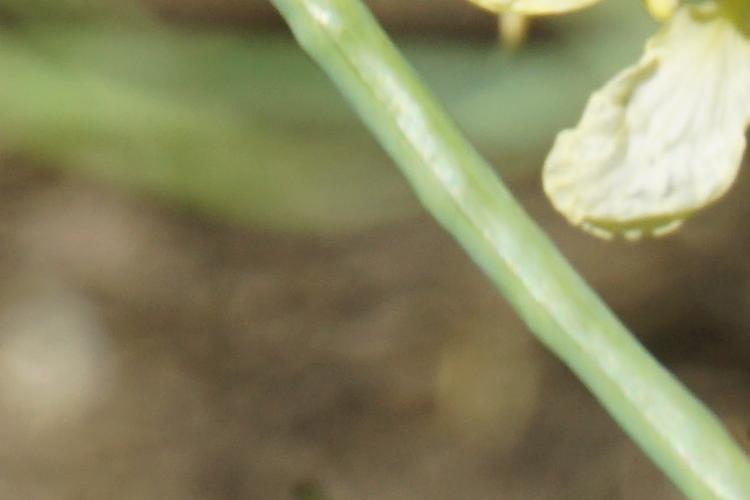white: (537, 19, 737, 238)
